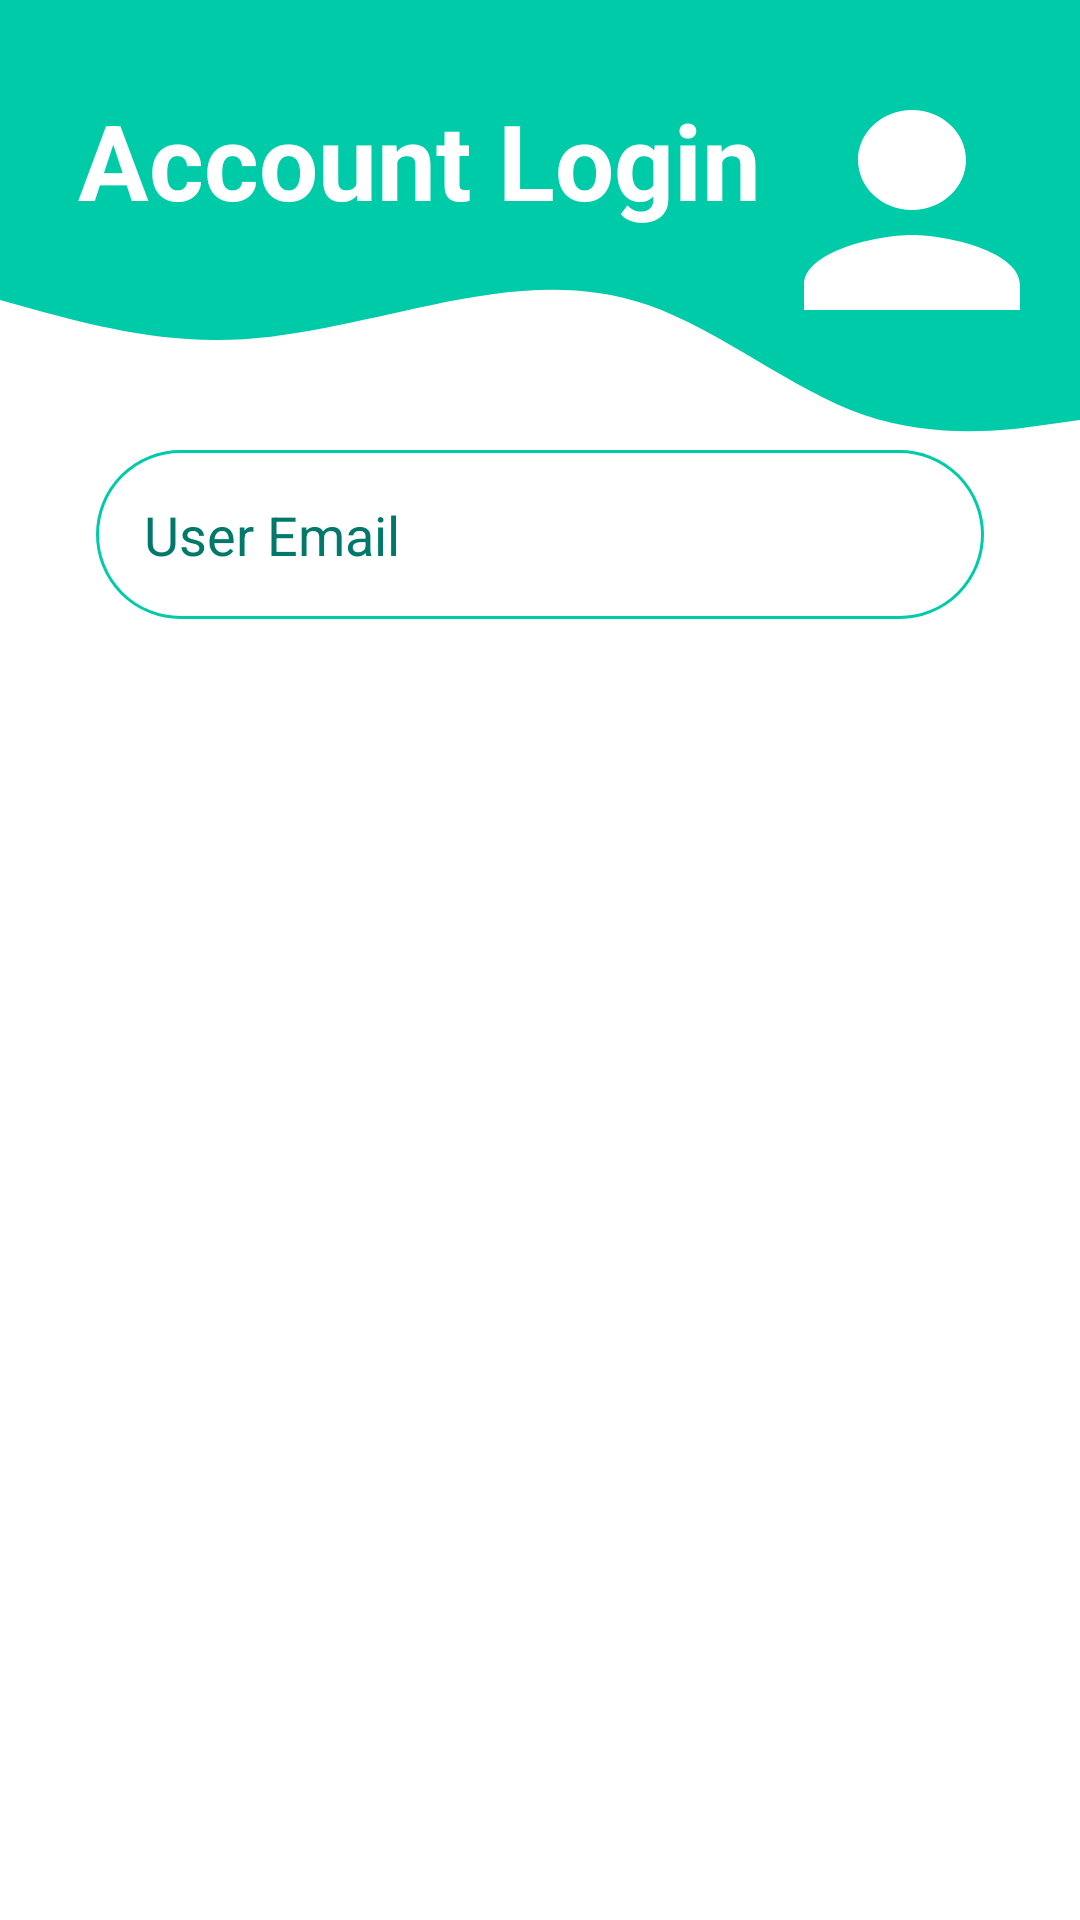

Named icons in this screenshot (1080×1920) and their centers, (x,y):
person: (912,210)
